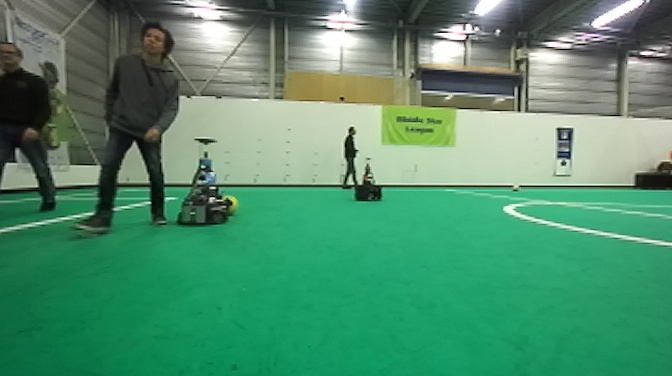ball: (224, 192, 239, 217), (509, 181, 523, 194)
human: (67, 20, 182, 237), (1, 38, 63, 213), (339, 124, 365, 188)
robot: (173, 134, 234, 228), (353, 154, 385, 204)
